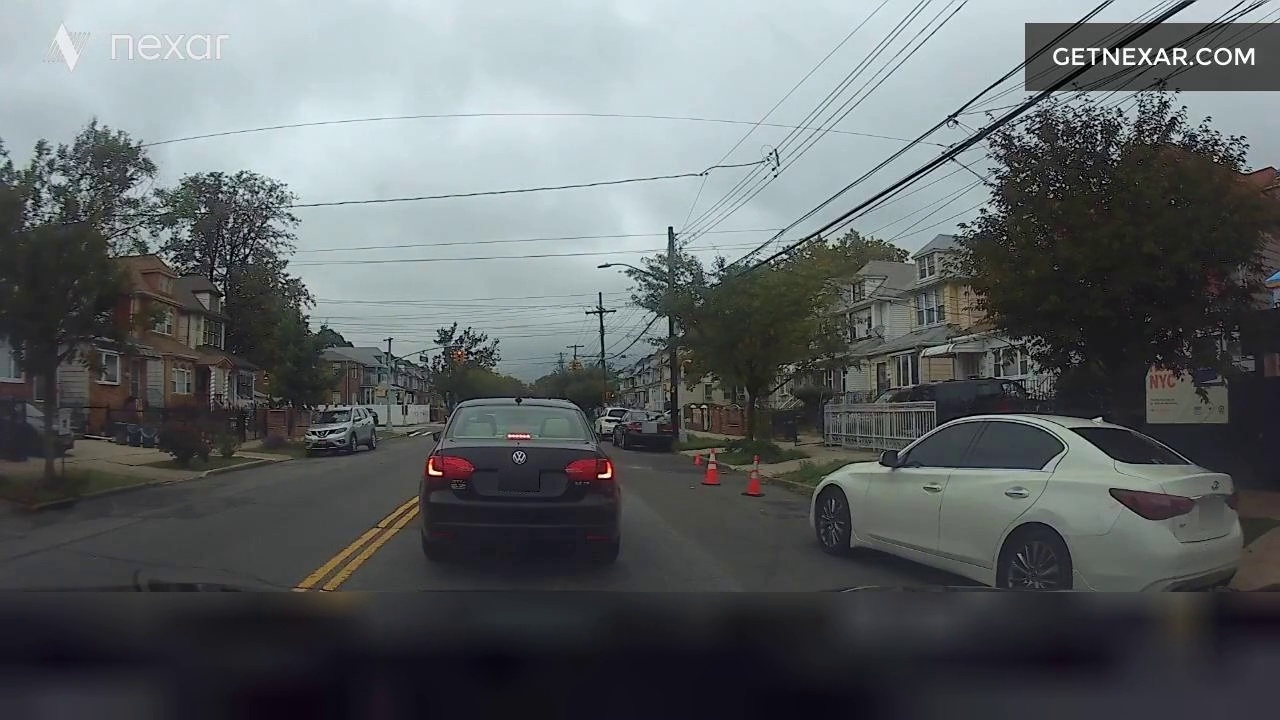car: (795, 377, 1254, 611), (425, 380, 618, 595), (269, 393, 397, 462), (614, 397, 691, 463)
traffic light: (426, 330, 487, 374)
